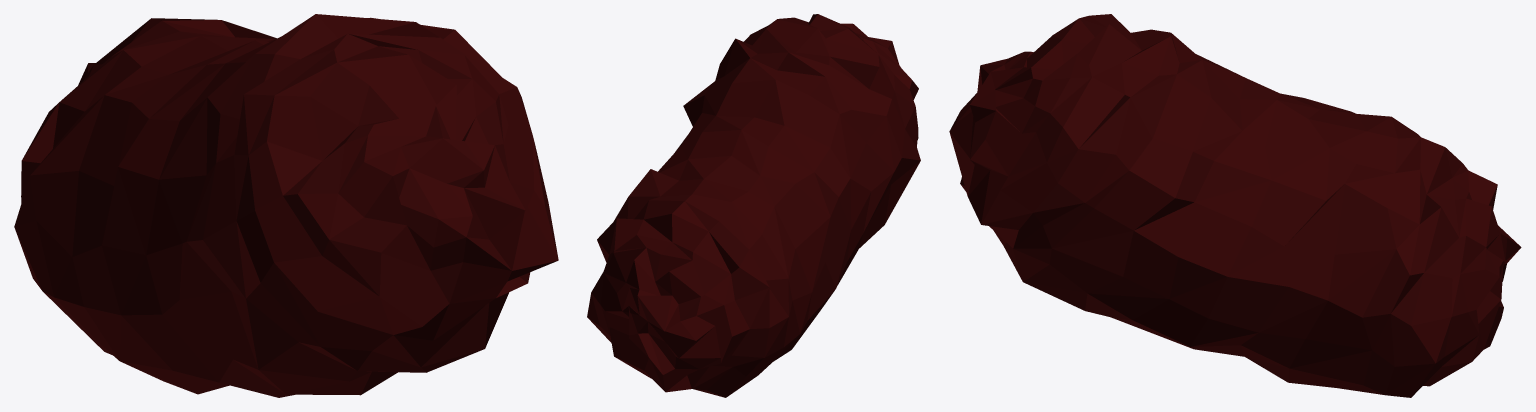
The model's file is Bacteria_RedGrubby.FBX.
3 views of the same model, side by side, from view 1: azimuth 30°, elevation 25°; view 2: azimuth 150°, elevation 25°; view 3: azimuth 270°, elevation 25° (orthographic). The views are drawn at different scales.
Visible parts, largest first — view 1: Capsule001; view 2: Capsule001; view 3: Capsule001.
Part boxes in pixels (box(x1,y1,x2,y2)): Capsule001: box(14, 14, 558, 397); Capsule001: box(587, 14, 920, 397); Capsule001: box(949, 14, 1521, 397).
Bounding box in the file's own units: 127 × 252 × 173.
